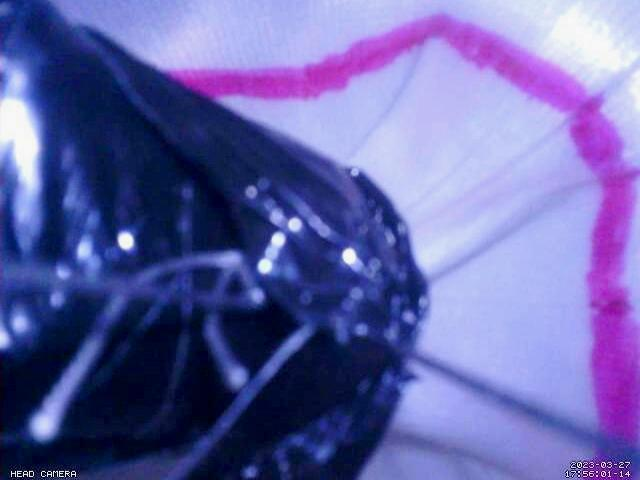red-circle: (166, 11, 640, 479)
